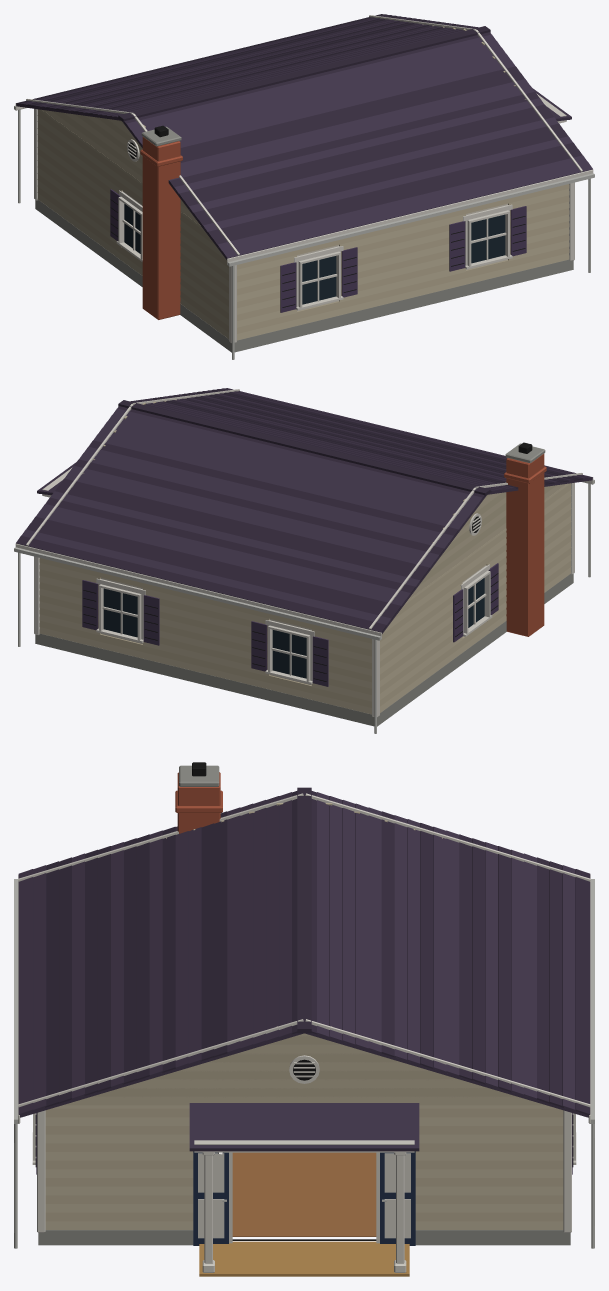
The model's file is house-violet.glb.
The picture shows the model from 3 angles, top to bottom: view 1: azimuth 30°, elevation 25°; view 2: azimuth 150°, elevation 25°; view 3: azimuth 270°, elevation 25°; orthographic projection. The views are drawn at different scales.
Visible parts, largest first — view 1: house-violet; view 2: house-violet; view 3: house-violet.
Part boxes in pixels (left/top/right/bottom): house-violet: left=14, top=14, right=594, bottom=359; house-violet: left=14, top=388, right=594, bottom=733; house-violet: left=14, top=762, right=594, bottom=1276.
Size of the model in its own units: 13.67 by 5.72 by 12.14.
